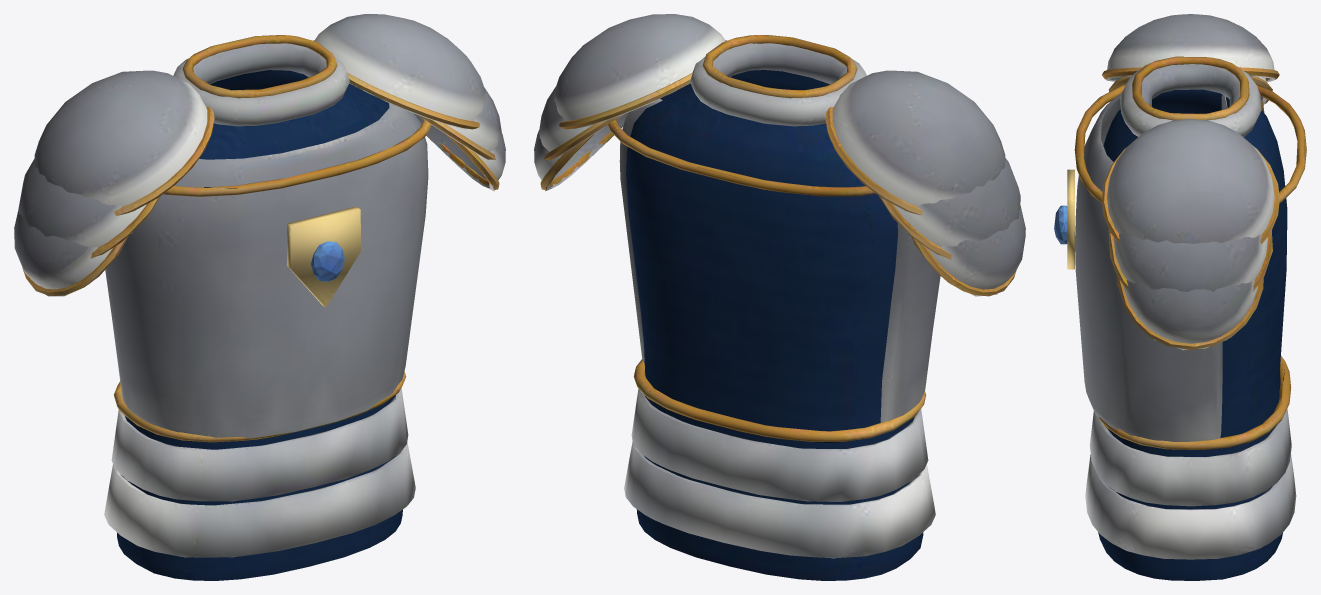
The model's file is warden_plate.glb.
3 renders of one model, left to right at view 1: azimuth 30°, elevation 25°; view 2: azimuth 150°, elevation 25°; view 3: azimuth 270°, elevation 25°, orthographic. The views are drawn at different scales.
Visible parts, largest first — view 1: warden_plate; view 2: warden_plate; view 3: warden_plate.
Boxes of the visible parts, x1=… form: warden_plate: x1=14, y1=14, x2=505, y2=580; warden_plate: x1=534, y1=14, x2=1025, y2=580; warden_plate: x1=1054, y1=14, x2=1306, y2=580.
Size of the model in its own units: 0.5499 by 0.5366 by 0.2744.
Materials: 1 (1 with a texture image).
